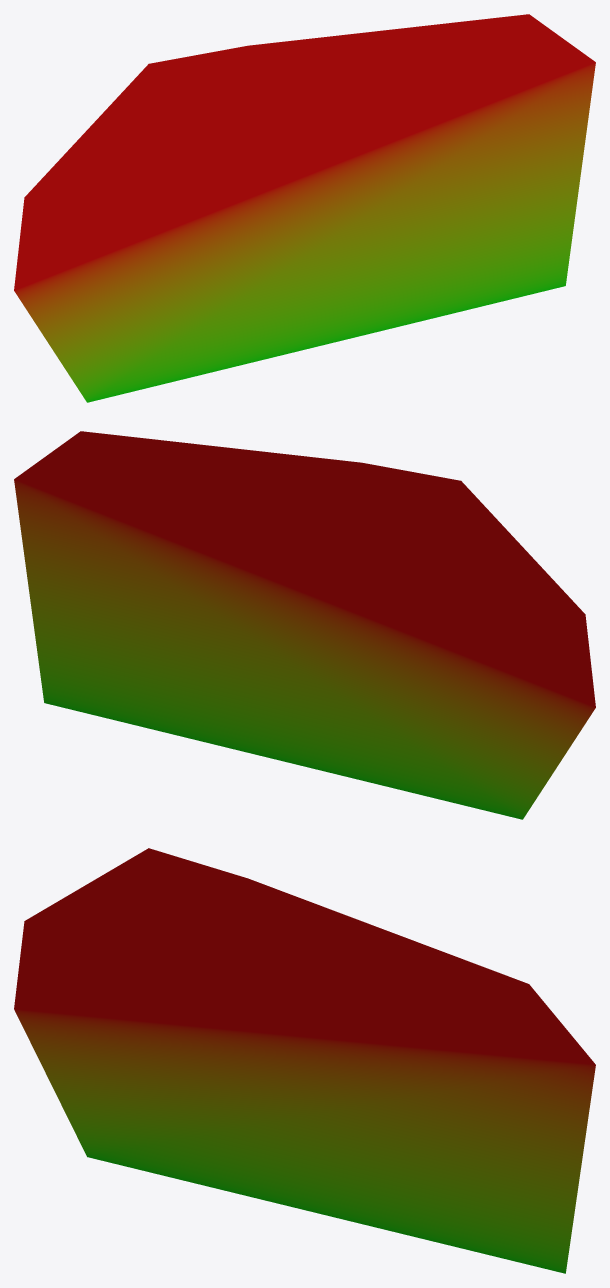
Rendered from Softstem Bulrush_LOD3_Var8_uehjcafia.fbx.
3 renders of one model, top to bottom at view 1: azimuth 30°, elevation 25°; view 2: azimuth 150°, elevation 25°; view 3: azimuth 330°, elevation 25°, orthographic.
Visible parts, largest first — view 1: _2451_Var8_LOD3; view 2: _2451_Var8_LOD3; view 3: _2451_Var8_LOD3.
Part boxes in pixels (left/top/right/bottom): _2451_Var8_LOD3: left=14, top=14, right=595, bottom=402; _2451_Var8_LOD3: left=14, top=431, right=595, bottom=819; _2451_Var8_LOD3: left=14, top=848, right=595, bottom=1273.
Bounding box in the file's own units: 383 × 203 × 4.77e-06.
